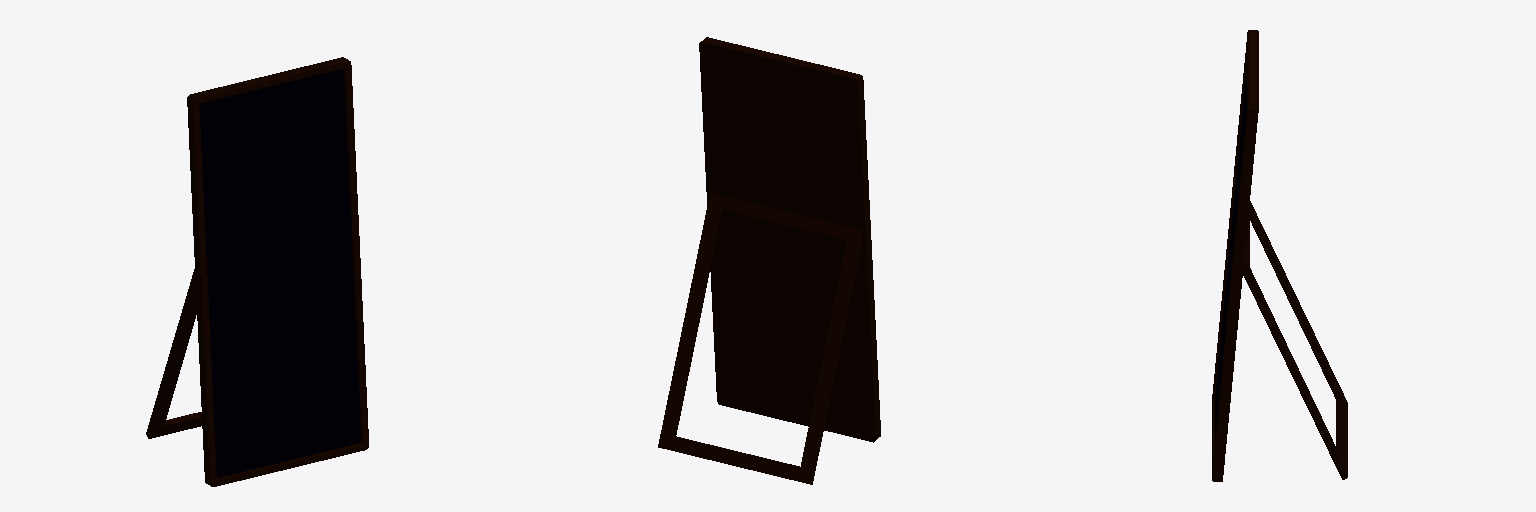
The model's file is Mirror1.obj.
3 views of the same model, side by side, from view 1: azimuth 30°, elevation 25°; view 2: azimuth 150°, elevation 25°; view 3: azimuth 270°, elevation 25° (orthographic).
Visible parts, largest first — view 1: Mirror1_Cube.001; view 2: Mirror1_Cube.001; view 3: Mirror1_Cube.001.
Part boxes in pixels (x1,y1,x2,y2): Mirror1_Cube.001: (146, 57, 368, 486); Mirror1_Cube.001: (658, 37, 880, 484); Mirror1_Cube.001: (1212, 30, 1347, 481).
Size of the model in its own units: 0.7622 by 1.73 by 0.5684.